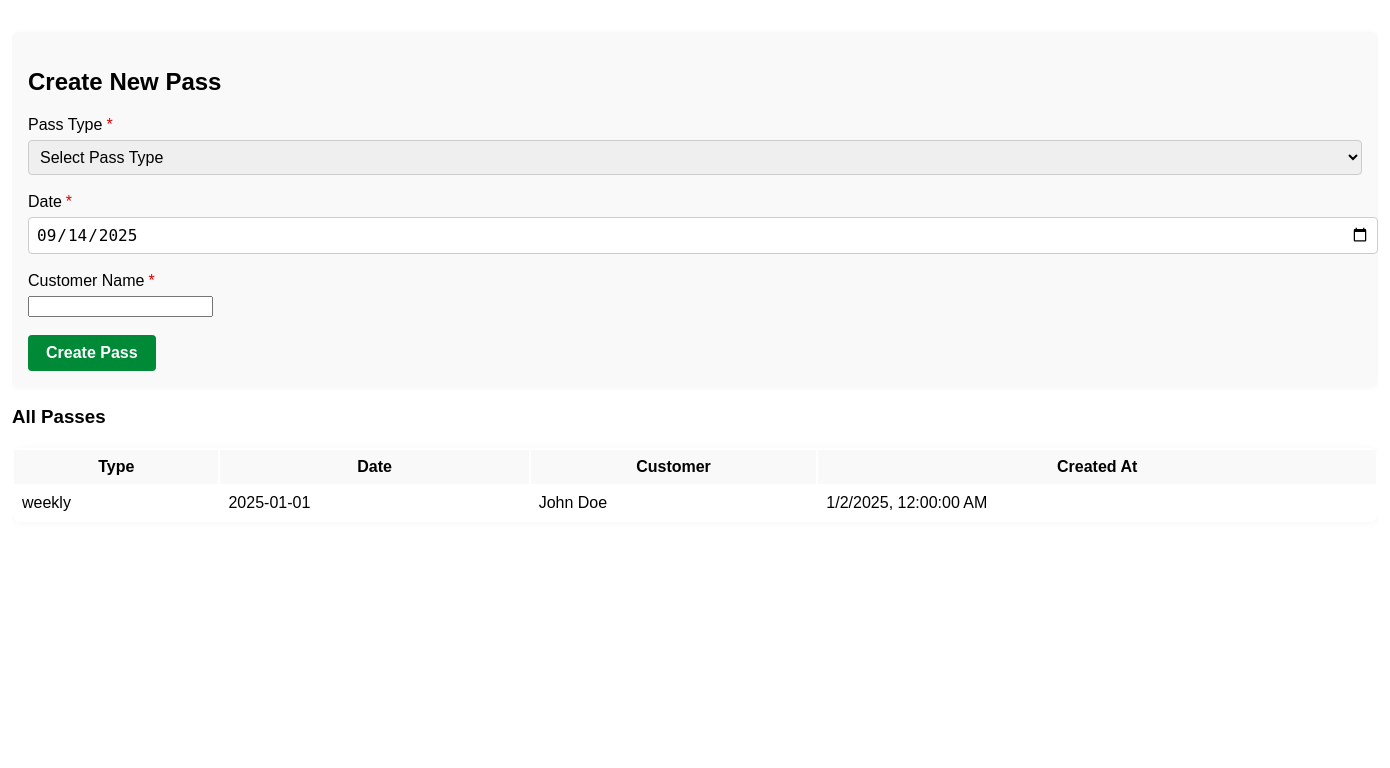
PassesPage (localStorage integration) › new pass prepends to list (most recent first)
The width and height of the screenshot is (1390, 768).
// Create new pass
Select "Hourly" in the dropdown labelled "Pass Type*" at (695, 157), box top-left (28, 140), bottom-right (1362, 175)
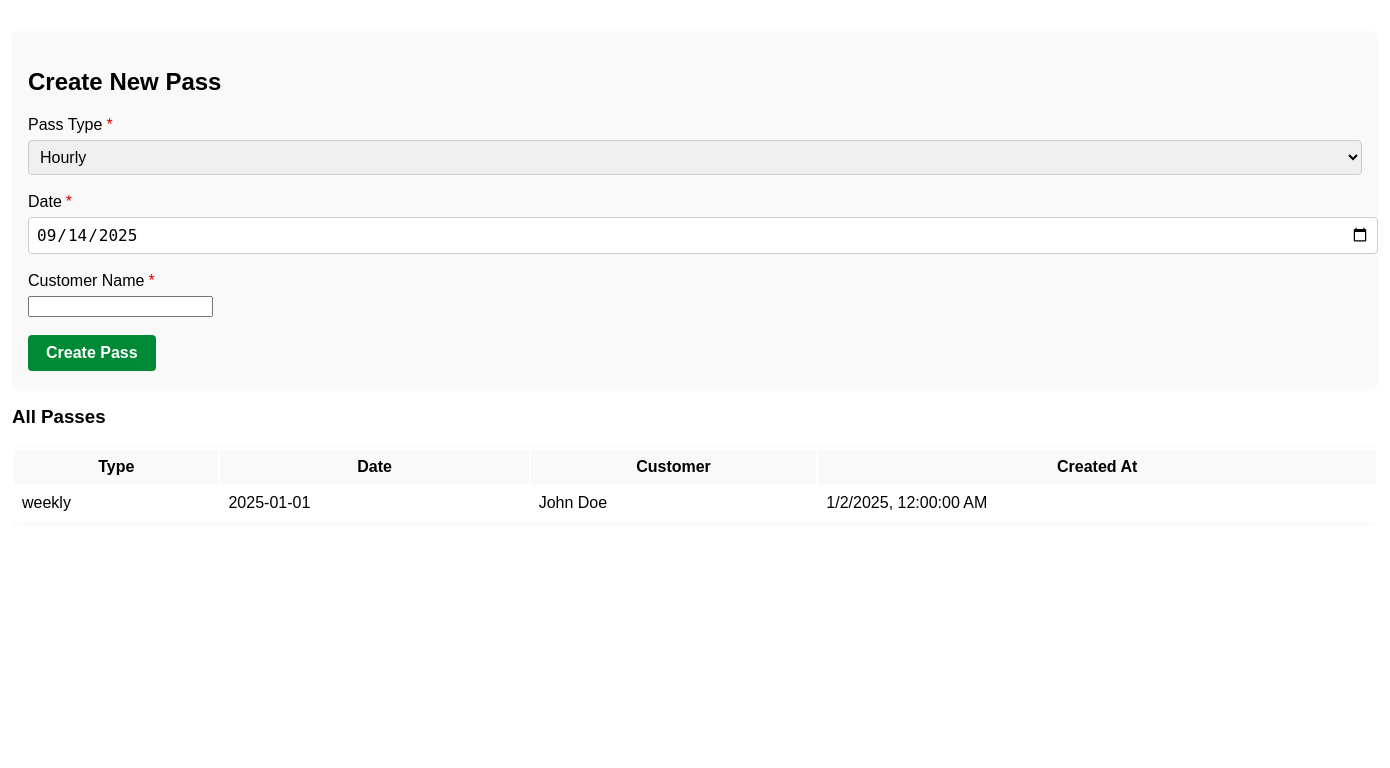
Type "Zeta User" into the field labelled "Customer Name*" at (120, 306), box top-left (28, 296), bottom-right (213, 317)
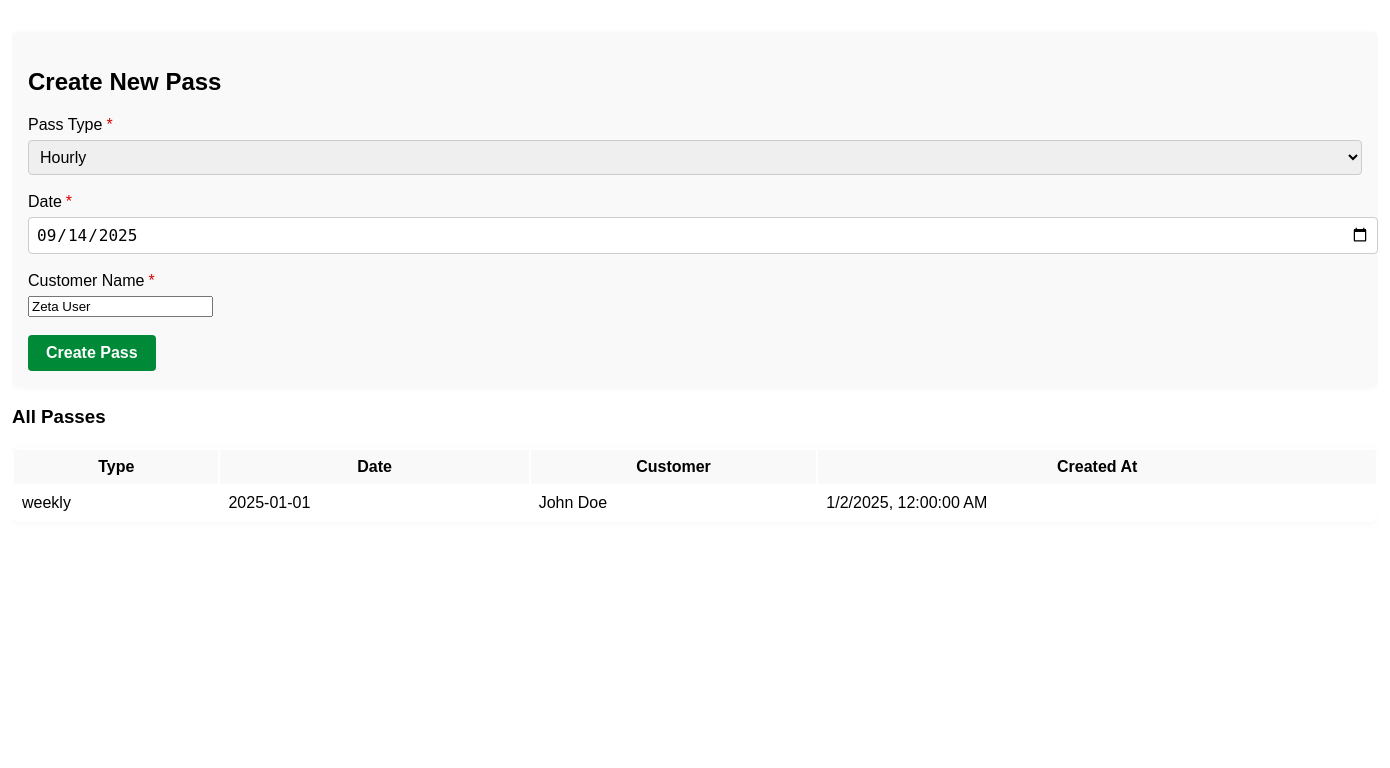
Click the button "Create Pass" at (92, 353), box top-left (28, 335), bottom-right (156, 371)
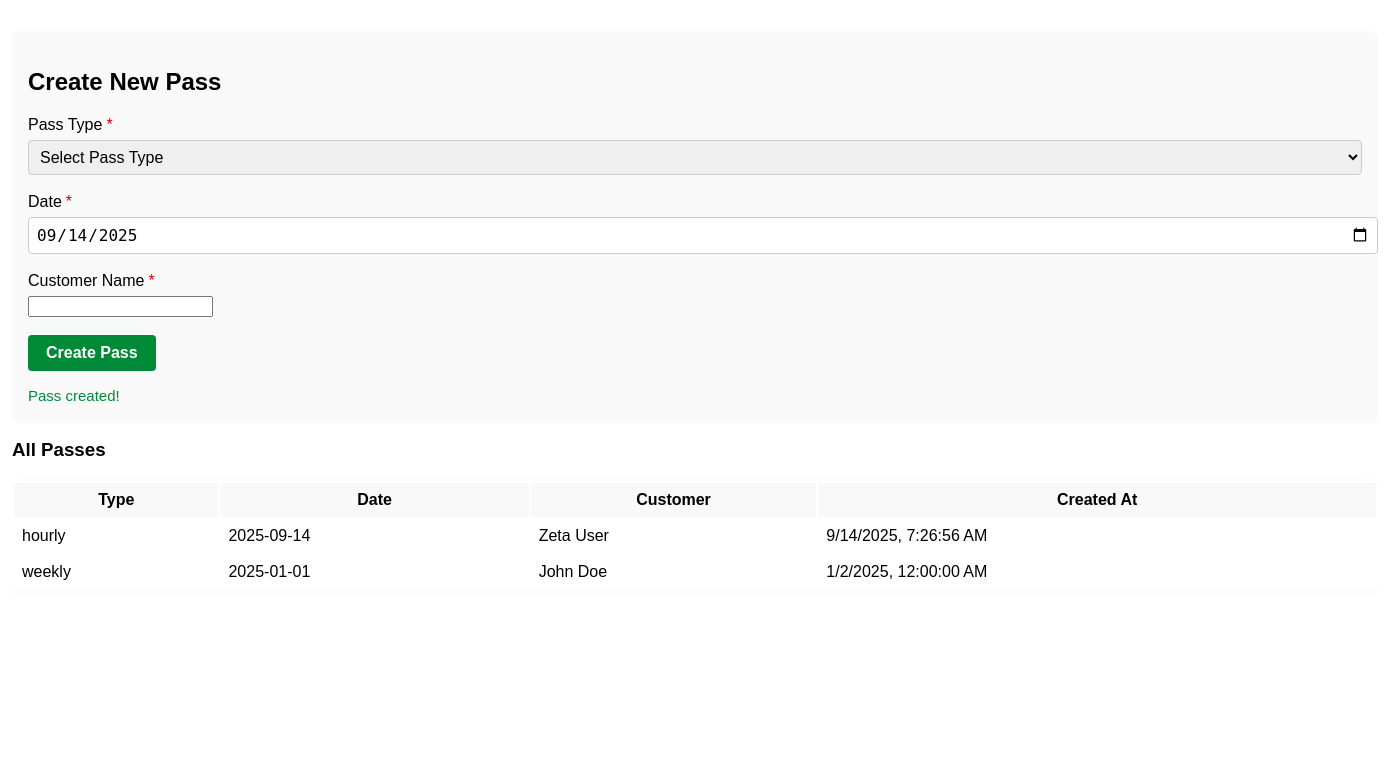
Expected: the cell "hourly" is shown, top-left (14, 518), bottom-right (218, 552)
Expected: the cell "Zeta User" is shown, top-left (531, 518), bottom-right (816, 552)
